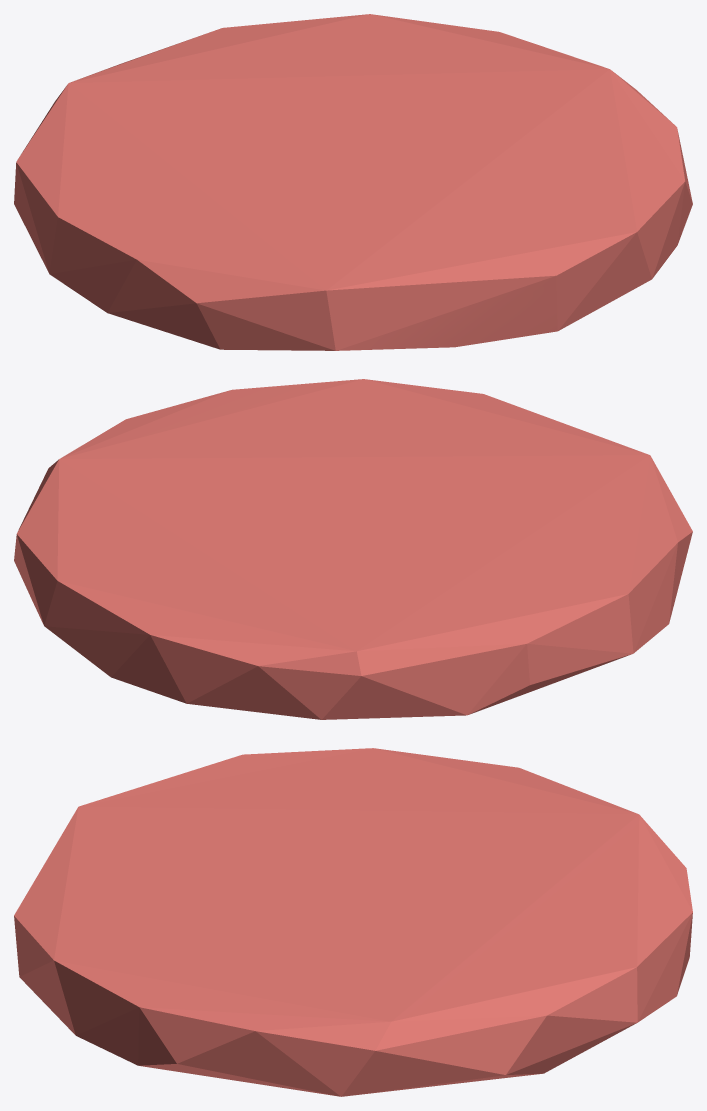
The model's file is patty.fbx.
3 views of the same model, one above another, from view 1: azimuth 30°, elevation 25°; view 2: azimuth 150°, elevation 25°; view 3: azimuth 270°, elevation 25° (orthographic).
Parts seen in each view (by area): view 1: Burger.002; view 2: Burger.002; view 3: Burger.002.
Part boxes in pixels (x1,y1,x2,y2): Burger.002: (14, 14, 692, 350); Burger.002: (14, 379, 692, 719); Burger.002: (14, 748, 692, 1096).
Bounding box in the file's own units: 445 × 53.9 × 439.
